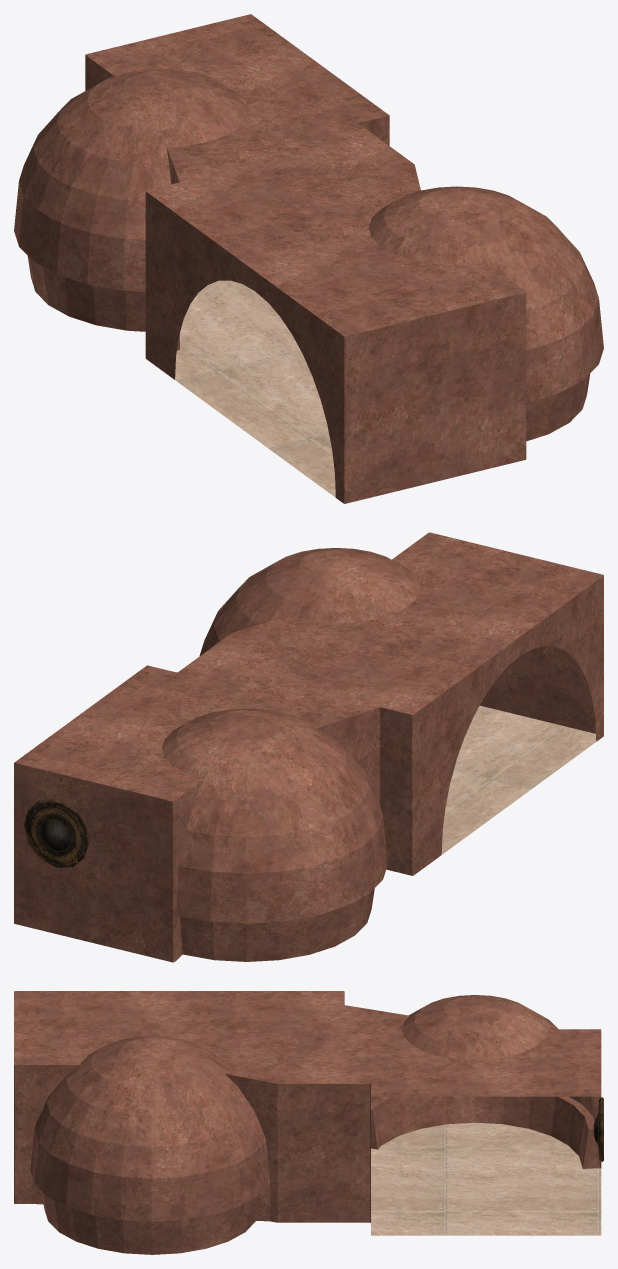
File: thm_nboo_cantina_r2_foyer2_mesh_r2.fbx
3 views of the same model, one above another, from view 1: azimuth 30°, elevation 25°; view 2: azimuth 150°, elevation 25°; view 3: azimuth 270°, elevation 25° (orthographic). The views are drawn at different scales.
Parts seen in each view (by area): view 1: mesh_node; view 2: mesh_node; view 3: mesh_node.
Boxes of the visible parts, x1,y1,x2,y2 form: mesh_node: (14, 14, 603, 503); mesh_node: (14, 532, 603, 962); mesh_node: (14, 991, 603, 1254).
Size of the model in its own units: 8.9 by 4.67 by 15.39.
